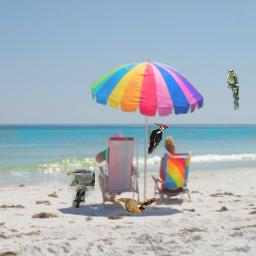Cuckoo: (67, 169, 95, 208), (116, 198, 156, 214), (227, 70, 239, 110)
Woodpecker: (148, 123, 168, 154)
